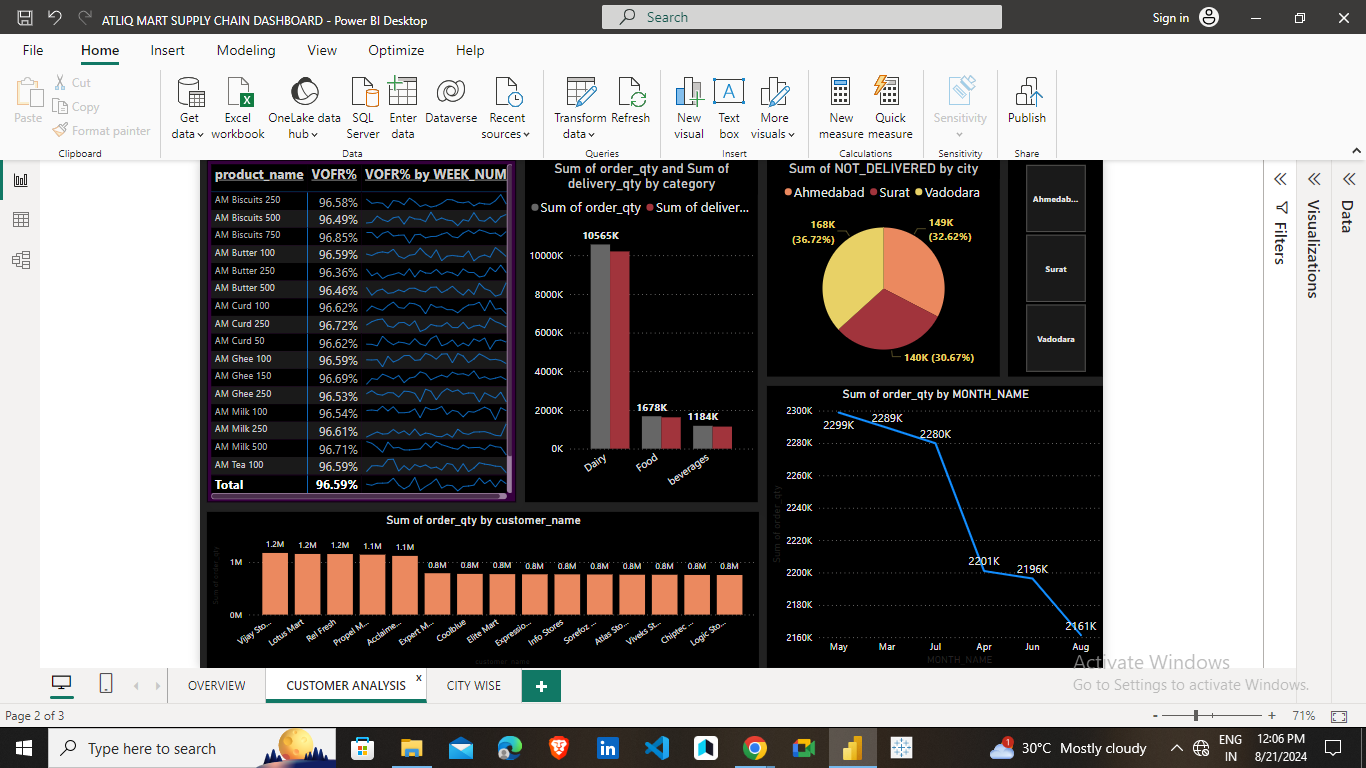

The dashboard page shown, as its layout file describes it:
{"tool":"powerbi","page":{"name":"CUSTOMER ANALYSIS","canvas":[1280,720],"ordinal":1},"visuals":[{"type":"pivotTable","fields":{"Rows":["dim_products.product_name"],"Values":["fact_order_lines.VOFR%","SparklineData(fact_order_lines.VOFR%_[fact_order_lines.WEEK_NUM])"]},"box":[10.1,0,437.9,484.8],"z":0},{"type":"clusteredColumnChart","fields":{"Y":["fact_order_lines.order_qty","fact_order_lines.delivery_qty"],"Category":["dim_products.category"]},"box":[461.3,0,330.5,484.8],"z":1},{"type":"pieChart","fields":{"Y":["fact_order_lines.NOT_DELIVERED"],"Series":["dim_customers.city"]},"box":[803.6,0,330.5,307],"z":2},{"type":"columnChart","fields":{"Category":["dim_customers.customer_name"],"Y":["fact_order_lines.order_qty"]},"box":[10.1,498.2,781.8,221.4],"z":3},{"type":"lineChart","fields":{"Y":["fact_order_lines.order_qty"],"Category":["fact_order_lines.MONTH_NAME"]},"box":[803.6,320.4,476.4,399.3],"z":4},{"type":"slicer","fields":{"Values":["dim_customers.city"]},"box":[1145.8,0,134.2,307],"z":5}]}

Visuals, with their boxes on the page's 1280x720 design canvas (x1, y1, x2, y2). These are canvas units, not pixel positions in the 1366x768 screenshot, which may show the page scaled, cropped or inside an application window:
pivotTable - dim_products.product_name x fact_order_lines.VOFR%: [left=10, top=0, right=448, bottom=485]
clusteredColumnChart - fact_order_lines.order_qty x fact_order_lines.delivery_qty: [left=461, top=0, right=792, bottom=485]
pieChart - fact_order_lines.NOT_DELIVERED x dim_customers.city: [left=804, top=0, right=1134, bottom=307]
columnChart - dim_customers.customer_name x fact_order_lines.order_qty: [left=10, top=498, right=792, bottom=720]
lineChart - fact_order_lines.order_qty x fact_order_lines.MONTH_NAME: [left=804, top=320, right=1280, bottom=720]
slicer - dim_customers.city: [left=1146, top=0, right=1280, bottom=307]
